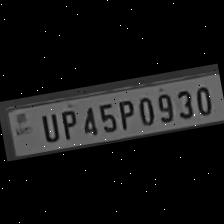0: (132, 92, 156, 127), (190, 82, 214, 116)
3: (172, 86, 195, 119)
4: (76, 103, 98, 139)
5: (94, 99, 118, 135)
9: (152, 89, 176, 125)
P: (112, 94, 136, 132), (55, 106, 79, 142)
U: (34, 109, 61, 144)
